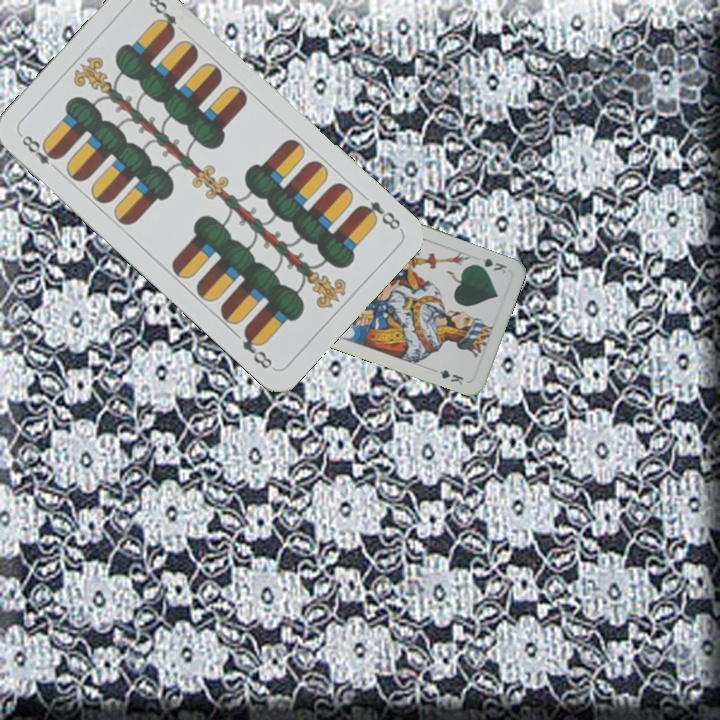E8: (16, 130, 63, 175), (354, 197, 404, 233)
GK: (470, 254, 509, 276)
